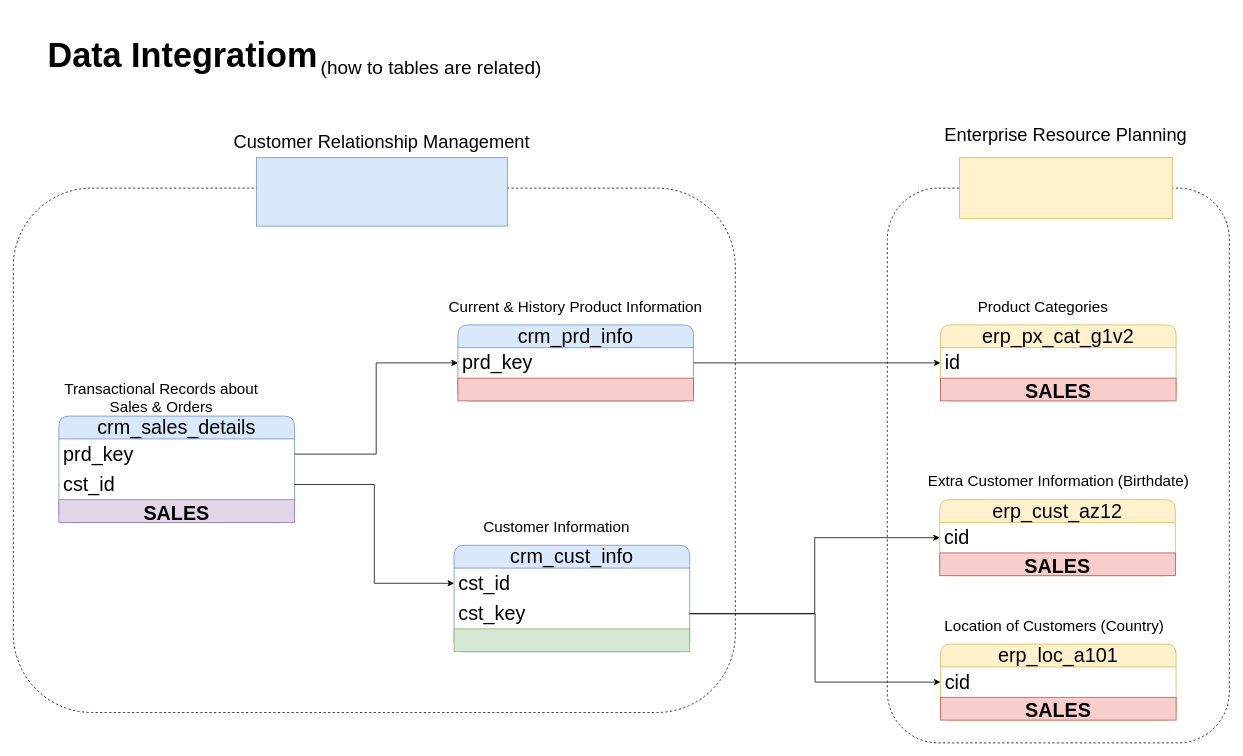
Some shapes in this 1243 by 756 pixel diagram are drawn without their labels. The shapes that lost their labels are listed below. From the top down, each one's centre as x and y in pixels, then its label:
At (381,191): "CRM".
At (1065,187): "ERP".
At (575,389): "PRODUCT".
At (571,640): "CUSTOMER".
